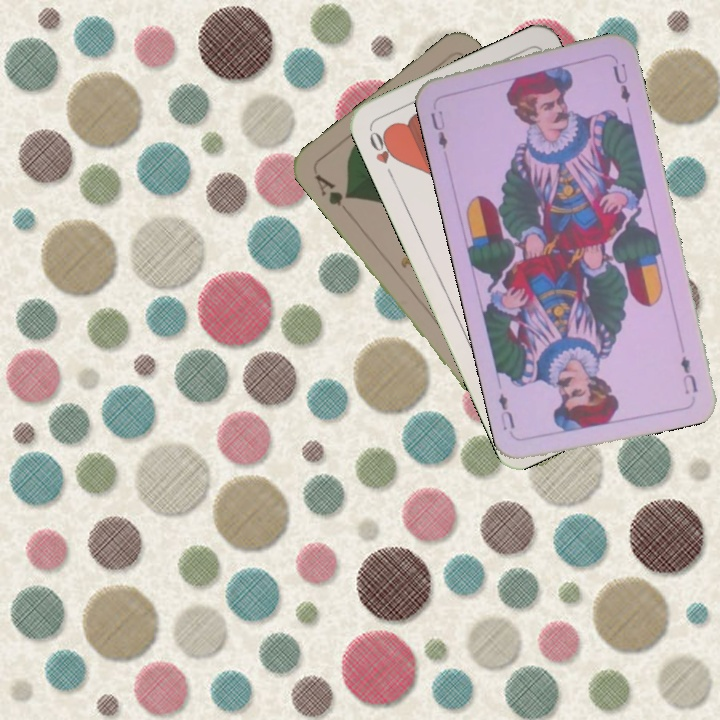EU: (676, 352, 701, 397), (426, 106, 450, 152)
GA: (311, 170, 353, 218)
HO: (365, 126, 401, 182)
